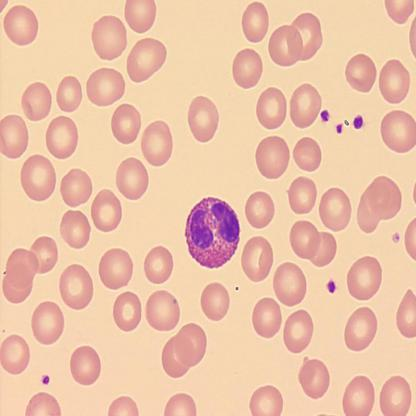Eosinophil: (183, 192, 241, 266)
